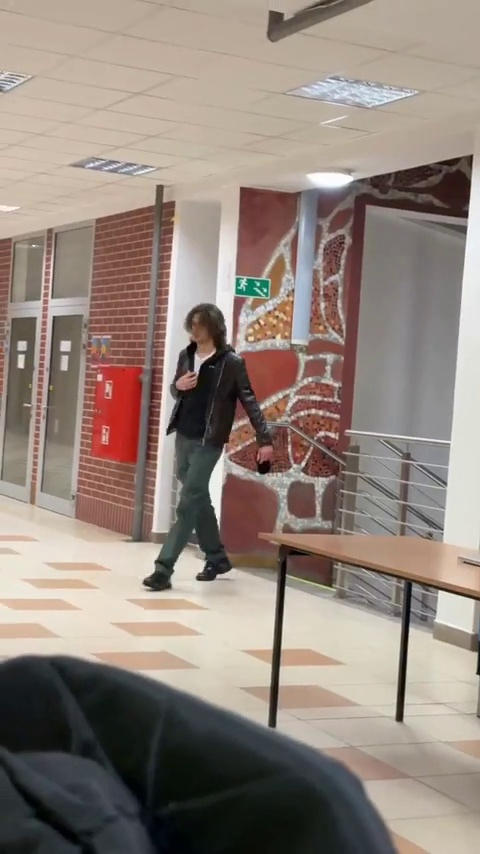no vest: (149, 300, 267, 586)
